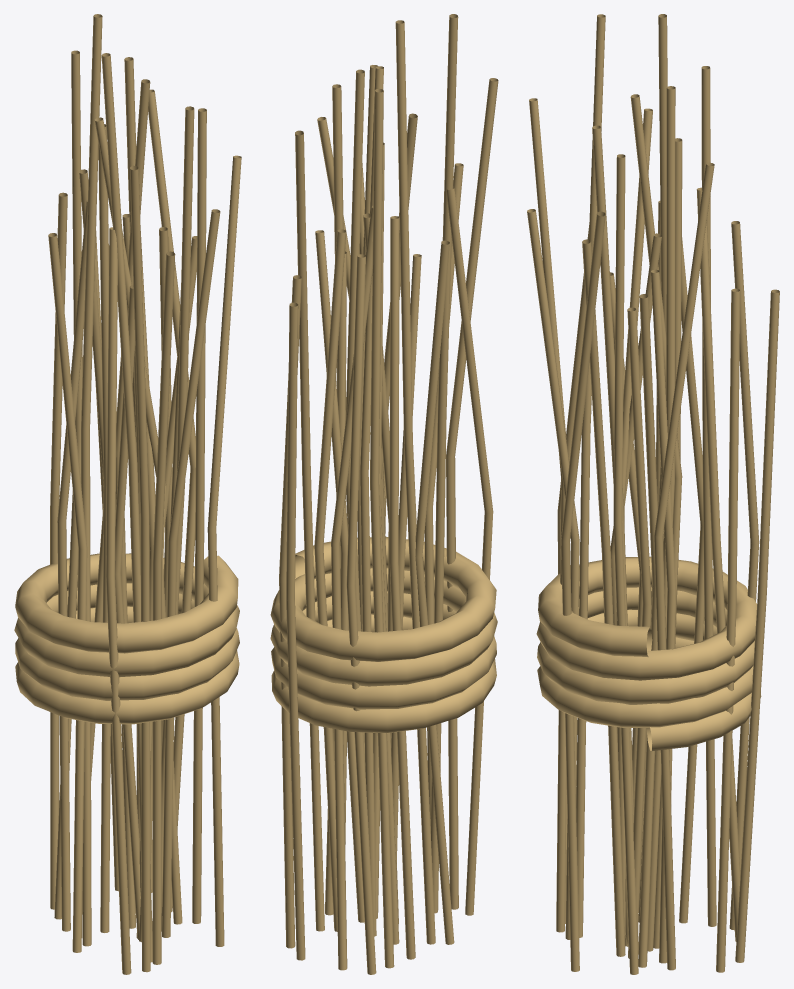
The model's file is fiber.glb.
The picture shows the model from 3 angles, left to right: view 1: azimuth 30°, elevation 25°; view 2: azimuth 150°, elevation 25°; view 3: azimuth 270°, elevation 25°; orthographic projection.
Visible parts, largest first — view 1: fiber_binding, fiber_strand_12, fiber_strand_14, fiber_strand_10, fiber_strand_1, fiber_strand_4, fiber_strand_23, fiber_strand_9, fiber_strand_16, fiber_strand_17, fiber_strand_8, fiber_strand_25 (+15 smaller); view 2: fiber_binding, fiber_strand_12, fiber_strand_11, fiber_strand_7, fiber_strand_10, fiber_strand_8, fiber_strand_24, fiber_strand_13, fiber_strand_9, fiber_strand_14, fiber_strand_16, fiber_strand_20 (+15 smaller); view 3: fiber_binding, fiber_strand_4, fiber_strand_7, fiber_strand_24, fiber_strand_1, fiber_strand_3, fiber_strand_17, fiber_strand_9, fiber_strand_18, fiber_strand_19, fiber_strand_11, fiber_strand_21 (+15 smaller).
Boxes of the visible parts, box(x1,y1,x2,y2) form: fiber_binding: box(14, 553, 239, 724); fiber_strand_12: box(81, 14, 102, 946); fiber_strand_14: box(106, 227, 131, 974); fiber_strand_10: box(130, 165, 150, 972); fiber_strand_1: box(207, 155, 241, 946); fiber_strand_4: box(192, 108, 206, 923); fiber_strand_23: box(152, 251, 175, 964); fiber_strand_9: box(101, 53, 152, 962); fiber_strand_16: box(48, 233, 87, 952); fiber_strand_17: box(162, 209, 220, 937); fiber_strand_8: box(57, 199, 87, 931); fiber_strand_25: box(98, 124, 110, 932); fiber_binding: box(270, 536, 497, 733); fiber_strand_12: box(395, 20, 435, 944); fiber_strand_11: box(370, 88, 394, 968); fiber_strand_7: box(295, 130, 324, 931); fiber_strand_10: box(446, 78, 498, 909); fiber_strand_8: box(389, 216, 415, 959); fiber_strand_24: box(286, 302, 305, 960); fiber_strand_13: box(346, 254, 376, 974); fiber_strand_9: box(430, 14, 458, 913); fiber_strand_14: box(446, 186, 493, 915); fiber_strand_16: box(415, 240, 454, 944); fiber_strand_20: box(314, 229, 346, 931); fiber_binding: box(536, 556, 761, 750); fiber_strand_4: box(613, 154, 638, 974); fiber_strand_7: box(654, 162, 714, 970); fiber_strand_24: box(735, 289, 779, 962); fiber_strand_1: box(561, 211, 605, 971); fiber_strand_3: box(716, 288, 740, 972); fiber_strand_17: box(582, 239, 625, 956); fiber_strand_9: box(576, 14, 605, 937); fiber_strand_18: box(696, 187, 740, 941); fiber_strand_19: box(647, 86, 675, 951); fiber_strand_11: box(701, 66, 716, 926); fiber_strand_21: box(638, 294, 657, 967).
Bounding box in the file's own units: 0.1736 × 0.7774 × 0.1945.
